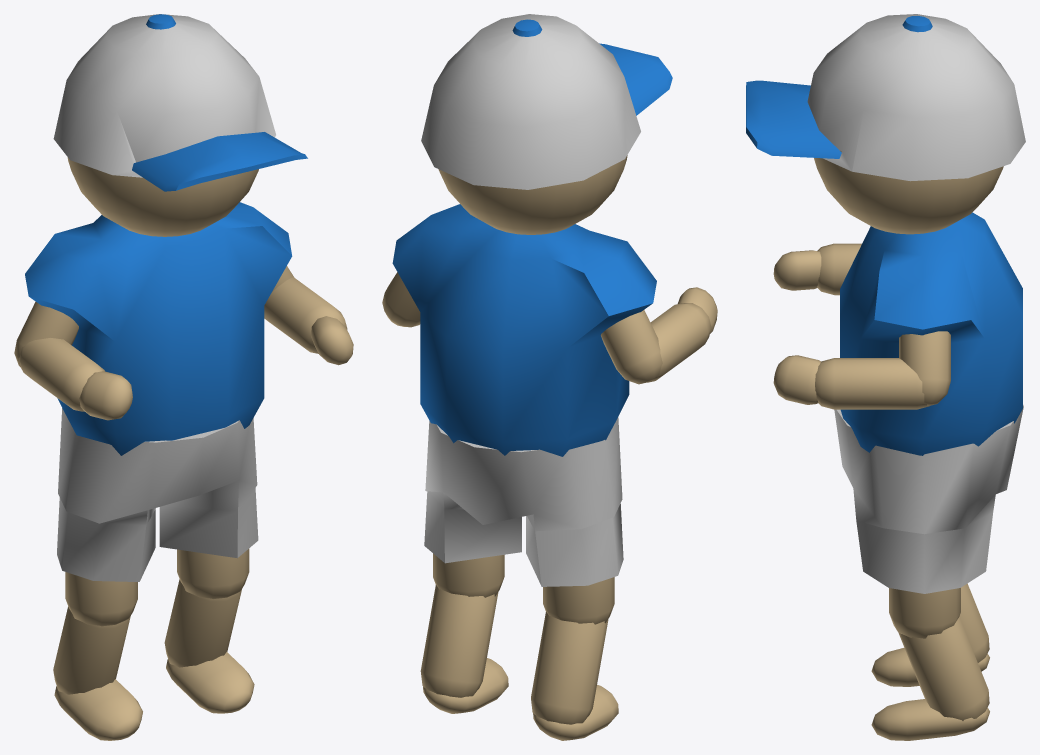
Rendered from Junge2.fbx.
The picture shows the model from 3 angles, left to right: view 1: azimuth 30°, elevation 25°; view 2: azimuth 150°, elevation 25°; view 3: azimuth 270°, elevation 25°; orthographic projection.
Visible parts, largest first — view 1: Kugel_1, Hose, Kugel, Kapsel, Kopf, Kapsel_4, Kugel_1_2, Kapsel_2, Kapsel_1_3, Kapsel_1_2, Bein_Links, Bein_rechts (+1 smaller); view 2: Kugel_1, Kugel, Hose, Kapsel, Kopf, Kapsel_2, Kapsel_3, Kugel_1_2, Kapsel_4, Bein_Links, Bein_rechts, Kapsel_1_2 (+1 smaller); view 3: Kugel_1, Kugel, Hose, Kapsel, Kopf, Kapsel_4, Kugel_1_2, Kapsel_1_3, Bein_rechts, Kapsel_3, Kapsel_1_2, Kapsel_2.
Part boxes in pixels (bbox=[...]): Kugel_1: bbox=[25, 202, 292, 455]; Hose: bbox=[57, 408, 258, 581]; Kugel: bbox=[53, 14, 275, 177]; Kapsel: bbox=[164, 579, 254, 713]; Kopf: bbox=[67, 157, 258, 236]; Kapsel_4: bbox=[18, 277, 347, 411]; Kugel_1_2: bbox=[132, 14, 307, 191]; Kapsel_2: bbox=[53, 606, 130, 694]; Kapsel_1_3: bbox=[79, 316, 353, 420]; Kapsel_1_2: bbox=[54, 679, 142, 740]; Bein_Links: bbox=[65, 572, 137, 626]; Bein_rechts: bbox=[177, 548, 249, 598]; Kugel_1: bbox=[392, 204, 656, 456]; Kugel: bbox=[421, 14, 640, 189]; Hose: bbox=[424, 417, 623, 586]; Kapsel: bbox=[420, 585, 508, 713]; Kopf: bbox=[438, 155, 627, 234]; Kapsel_2: bbox=[531, 611, 608, 724]; Kapsel_3: bbox=[382, 272, 662, 384]; Kugel_1_2: bbox=[512, 19, 672, 115]; Kapsel_4: bbox=[647, 303, 711, 382]; Bein_Links: bbox=[543, 577, 614, 624]; Bein_rechts: bbox=[433, 553, 504, 597]; Kapsel_1_2: bbox=[533, 684, 618, 740]; Kugel_1: bbox=[840, 212, 1022, 455]; Kugel: bbox=[807, 14, 1025, 181]; Hose: bbox=[834, 404, 1023, 593]; Kapsel: bbox=[871, 617, 989, 740]; Kopf: bbox=[814, 151, 1003, 234]; Kapsel_4: bbox=[815, 243, 929, 409]; Kugel_1_2: bbox=[746, 16, 932, 158]; Kapsel_1_3: bbox=[773, 250, 821, 404]; Bein_rechts: bbox=[889, 588, 960, 638]; Kapsel_3: bbox=[899, 331, 950, 405]; Kapsel_1_2: bbox=[871, 648, 989, 686]; Kapsel_2: bbox=[959, 583, 989, 662].
Bounding box in the file's own units: 58.74 × 139 × 50.94.
